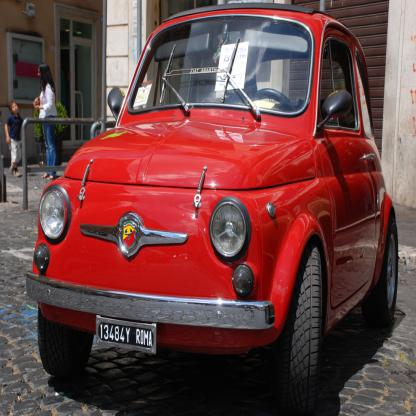Car: (24, 0, 401, 416)
